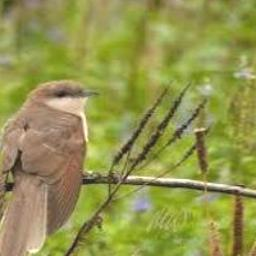Cuckoo: (0, 79, 101, 256)
